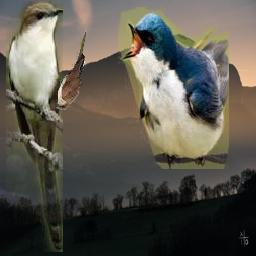Cuckoo: (7, 2, 64, 253), (54, 30, 86, 111)
Swallow: (119, 7, 230, 169)
